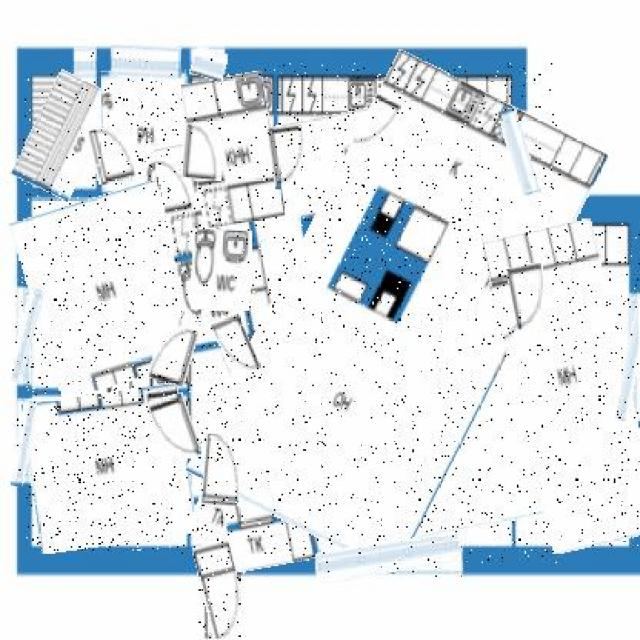door: (198, 541, 244, 640), (152, 395, 197, 463), (203, 436, 242, 506), (509, 265, 551, 329), (91, 125, 137, 183), (217, 315, 257, 380), (152, 324, 195, 384), (270, 126, 308, 188), (183, 125, 225, 180)
window: (317, 538, 461, 578), (503, 108, 534, 195), (12, 288, 38, 383), (621, 292, 640, 419), (110, 46, 182, 77), (15, 399, 34, 486), (191, 48, 226, 80), (74, 48, 95, 77)
zone: (234, 63, 560, 563), (174, 103, 531, 559), (500, 222, 640, 549), (22, 190, 195, 392), (26, 388, 192, 550), (186, 74, 280, 226), (22, 72, 106, 197), (101, 71, 188, 191), (191, 229, 252, 311), (191, 498, 272, 550)
